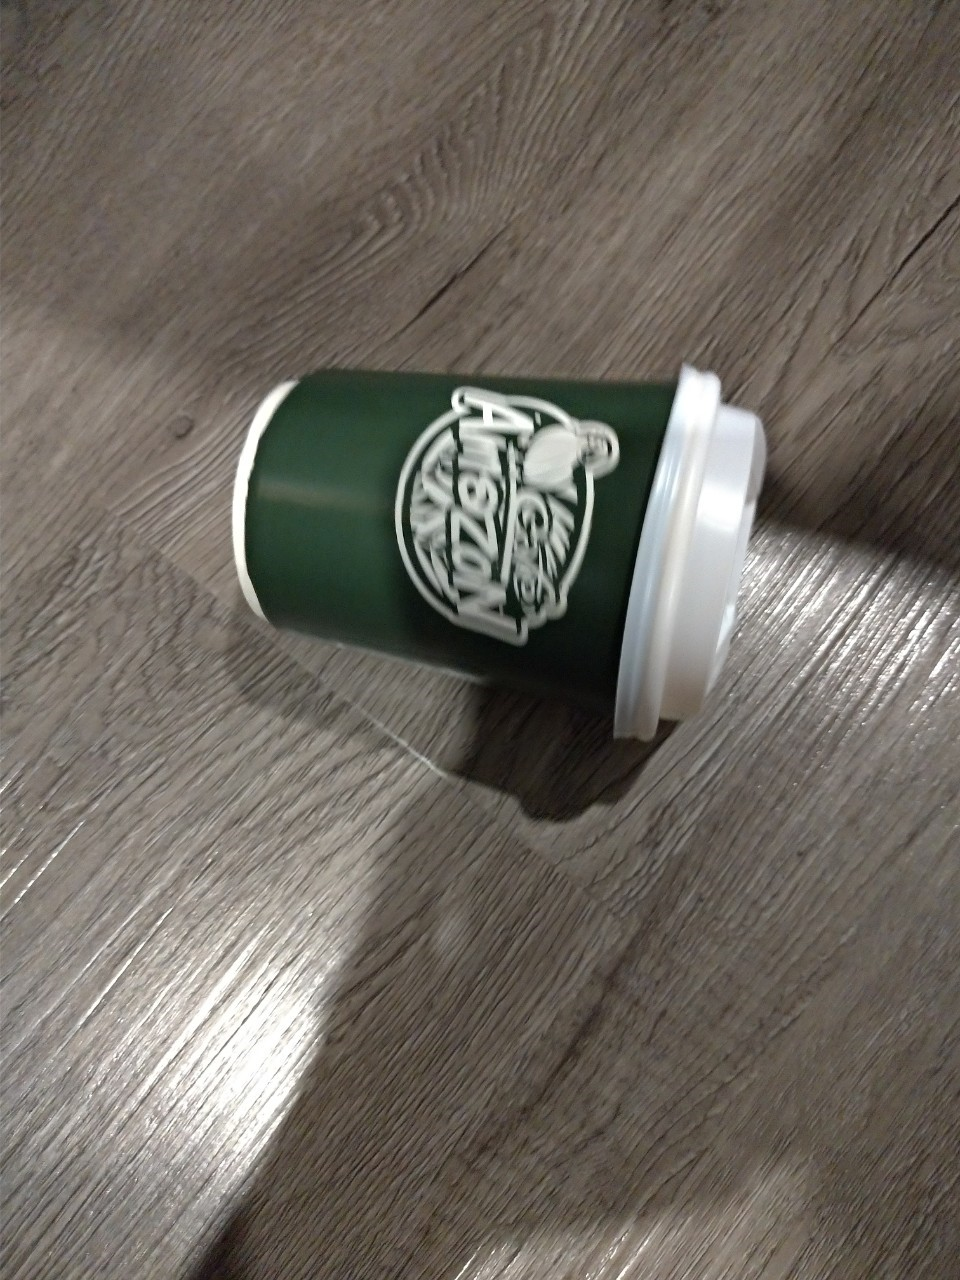PaperCup: (238, 363, 765, 735)
